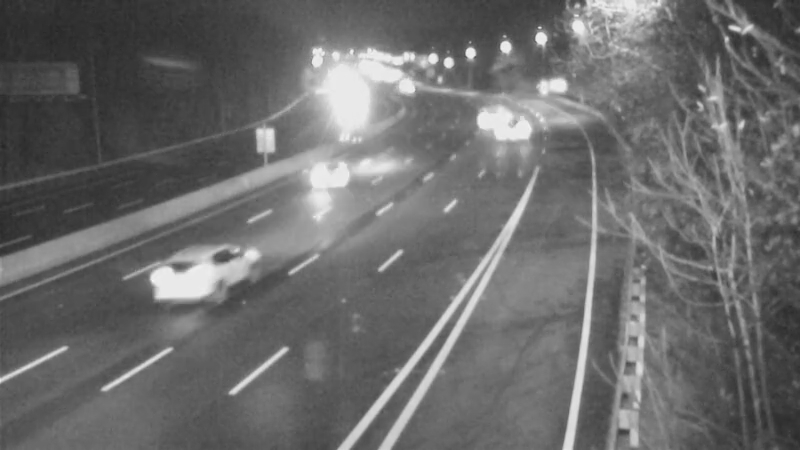vehicle: (290, 133, 370, 213), (153, 235, 233, 315), (384, 65, 434, 115), (461, 88, 511, 138), (499, 100, 549, 150)
